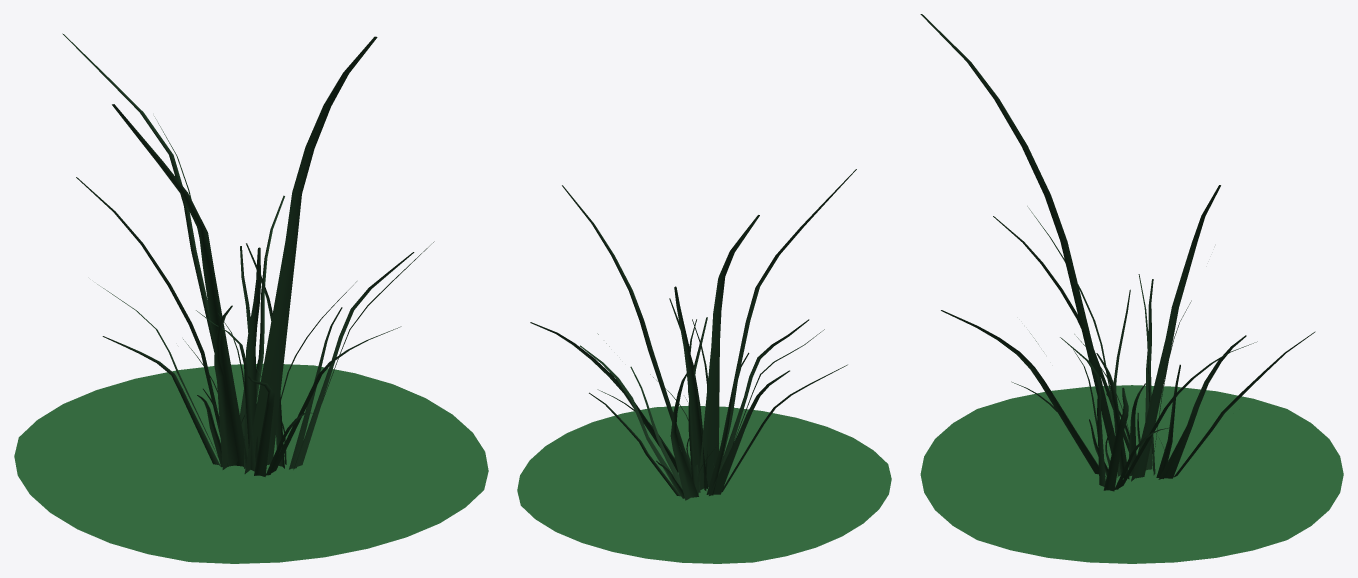
File: grass1.fbx
3 renders of one model, left to right at view 1: azimuth 30°, elevation 25°; view 2: azimuth 150°, elevation 25°; view 3: azimuth 270°, elevation 25°, orthographic. The views are drawn at different scales.
Parts seen in each view (by area): view 1: Plane, Plane.001, Plane.004, Plane.003, Plane.005, Plane.002; view 2: Plane, Plane.001, Plane.002, Plane.004, Plane.003, Plane.005; view 3: Plane, Plane.001, Plane.002, Plane.005, Plane.003, Plane.004.
Part boxes in pixels (left/top/right/bottom): Plane: left=14, top=363, right=488, bottom=563; Plane.001: left=62, top=33, right=377, bottom=473; Plane.004: left=97, top=284, right=257, bottom=469; Plane.003: left=196, top=310, right=401, bottom=476; Plane.005: left=246, top=241, right=434, bottom=469; Plane.002: left=76, top=177, right=284, bottom=440; Plane: left=517, top=405, right=891, bottom=563; Plane.001: left=562, top=169, right=856, bottom=489; Plane.002: left=580, top=317, right=717, bottom=500; Plane.004: left=692, top=319, right=847, bottom=495; Plane.003: left=669, top=298, right=824, bottom=474; Plane.005: left=530, top=319, right=696, bottom=472; Plane: left=920, top=385, right=1343, bottom=563; Plane.001: left=920, top=14, right=1220, bottom=481; Plane.002: left=1138, top=274, right=1315, bottom=479; Plane.005: left=1060, top=337, right=1257, bottom=491; Plane.003: left=941, top=289, right=1130, bottom=477; Plane.004: left=993, top=216, right=1191, bottom=470.
Bounding box in the file's own units: 301 × 379 × 301.
